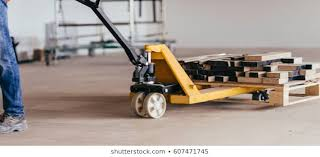Pallet Jack: (83, 1, 320, 119)
